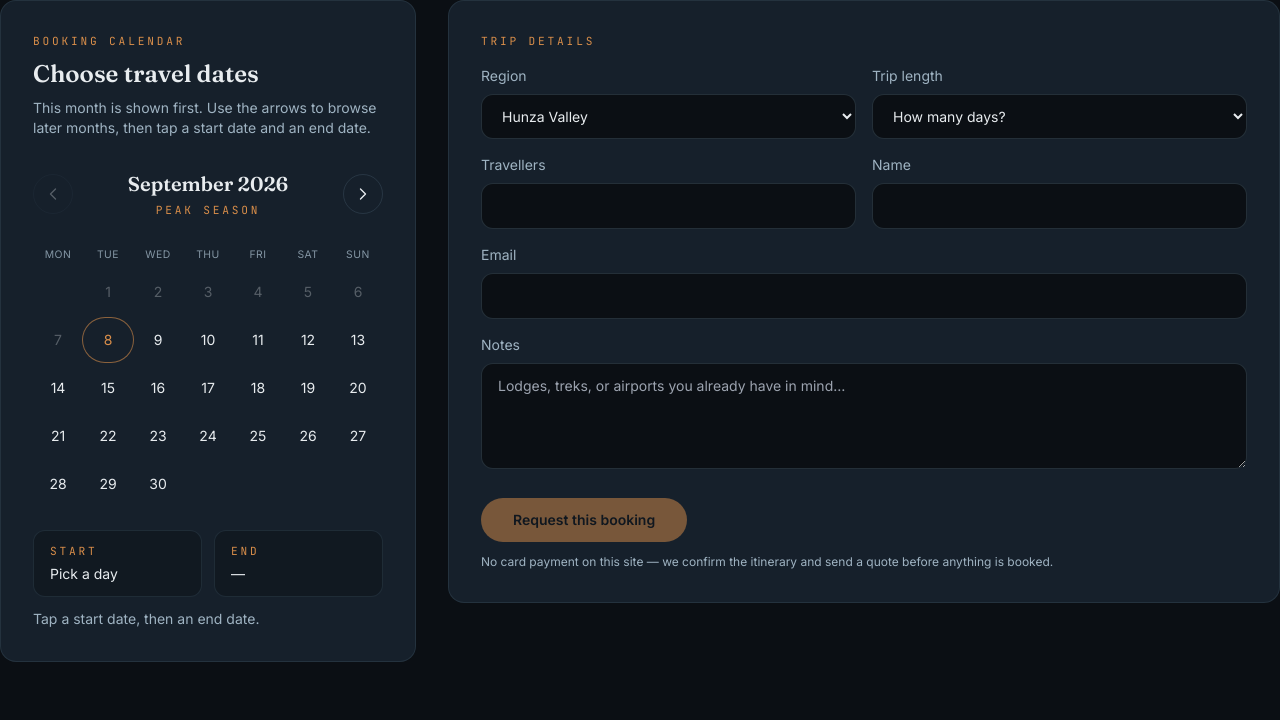
Test: BookingForm calendar › shows only the current month until the next arrow is used
Expected: the text "September 2026" is shown, [128,170,288,198]
Expected: the text "October 2026" is not shown
Click the button named "next month".
click(363, 194)  # box [343,174,383,214]
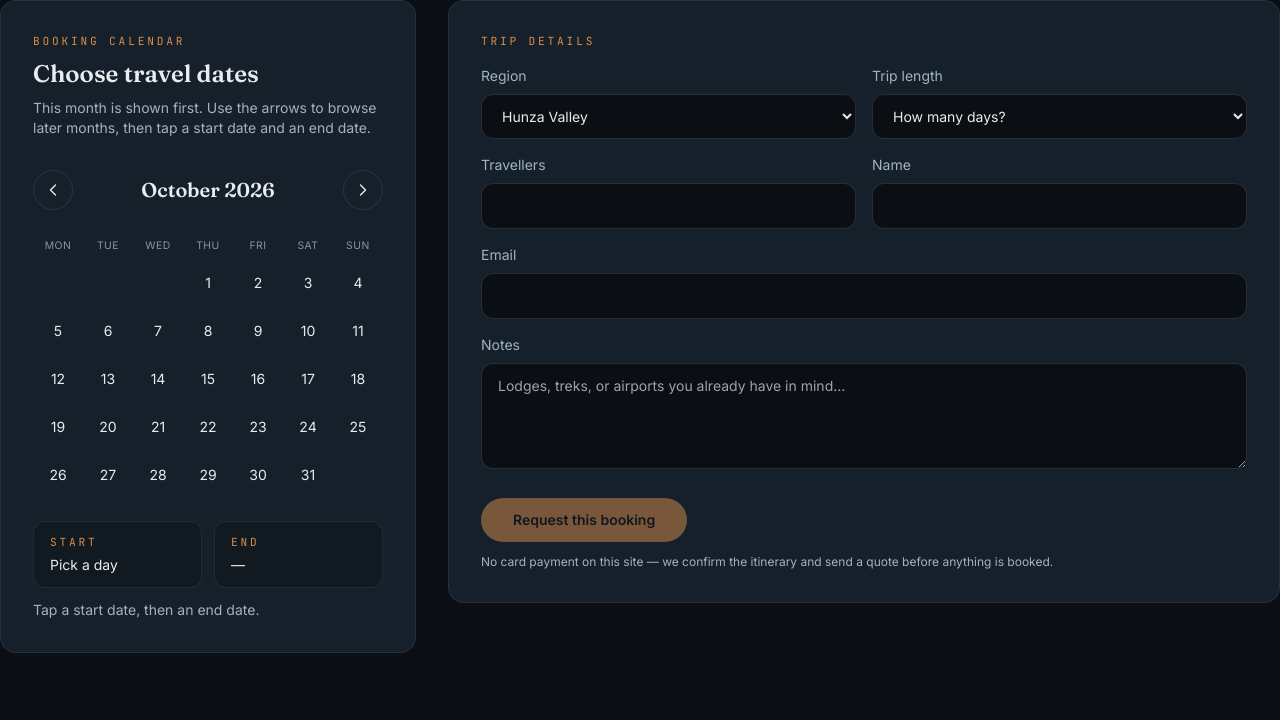
Now the text "October 2026" is shown, box [141,176,275,204]
Now the text "September 2026" is gone
Now the button named "previous month" is enabled, box [33,170,73,210]
